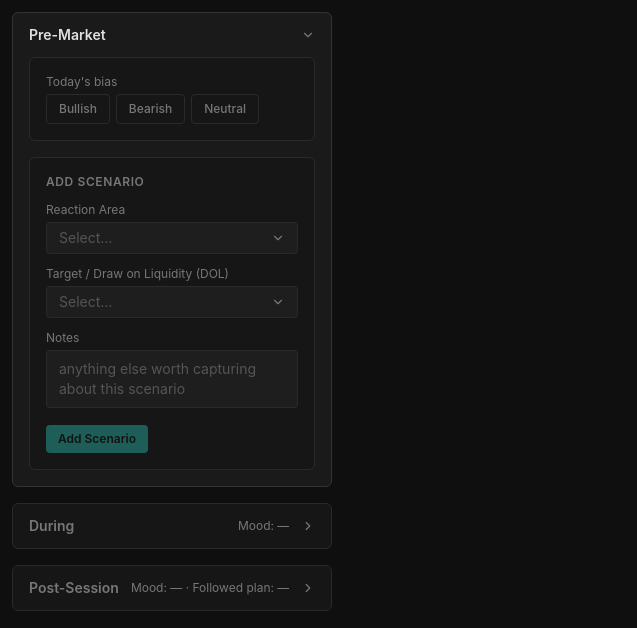
DayWorkspace — manual section switching › switches to another section when its header is clicked
The width and height of the screenshot is (637, 628).
Expected: the text "Reaction Area" is shown, [46,202,125,217]
Click the text "Post-Session" at (74, 588), box [29,578,119,598]
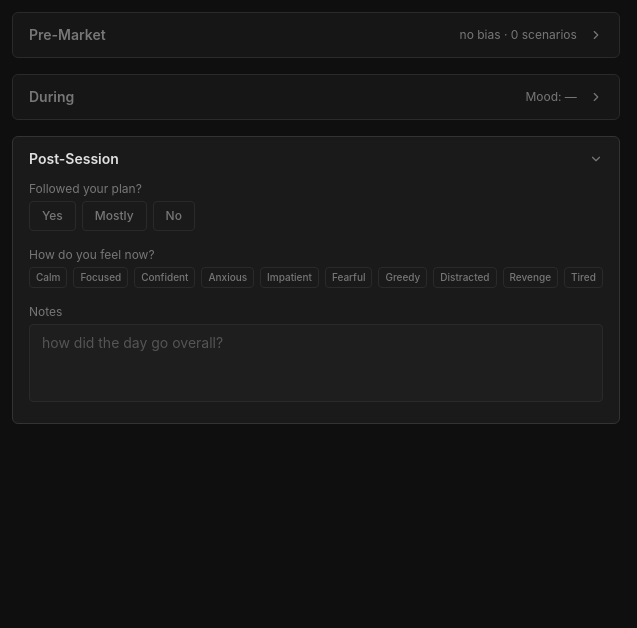
Now the text "Followed your plan?" is shown, box [29,181,142,196]
Now the text "Reaction Area" is gone
